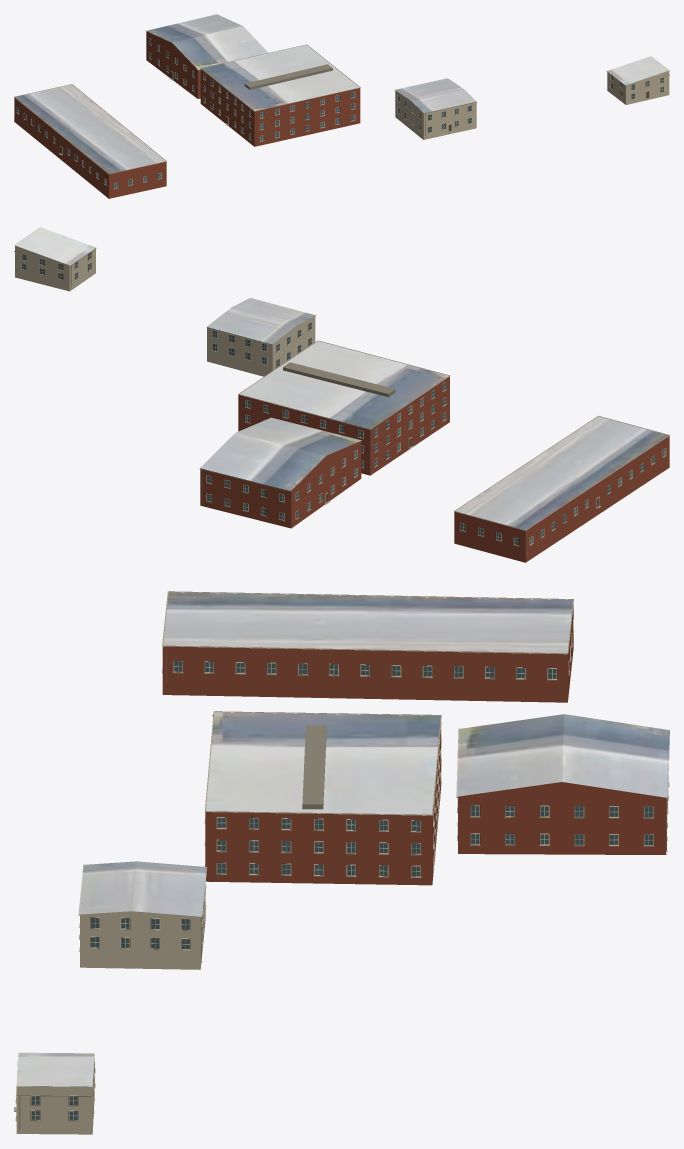
The picture shows the model from 3 angles, top to bottom: view 1: azimuth 30°, elevation 25°; view 2: azimuth 150°, elevation 25°; view 3: azimuth 270°, elevation 25°; orthographic projection. The views are drawn at different scales.
Parts seen in each view (by area): view 1: -5_-4_599928439_20, -5_-4_599928445_26; view 2: -5_-4_599928439_20, -5_-4_599928445_26; view 3: -5_-4_599928439_20, -5_-4_599928445_26.
Part boxes in pixels (box(x1,y1,x2,y2)): -5_-4_599928439_20: box(14, 14, 669, 198); -5_-4_599928445_26: box(395, 70, 669, 139); -5_-4_599928439_20: box(14, 227, 669, 562); -5_-4_599928445_26: box(15, 245, 315, 376); -5_-4_599928439_20: box(14, 591, 669, 1129); -5_-4_599928445_26: box(16, 890, 205, 1134).
Bounding box in the file's own units: 176 × 13.84 × 97.04.
Materials: 11 (1 with a texture image).
